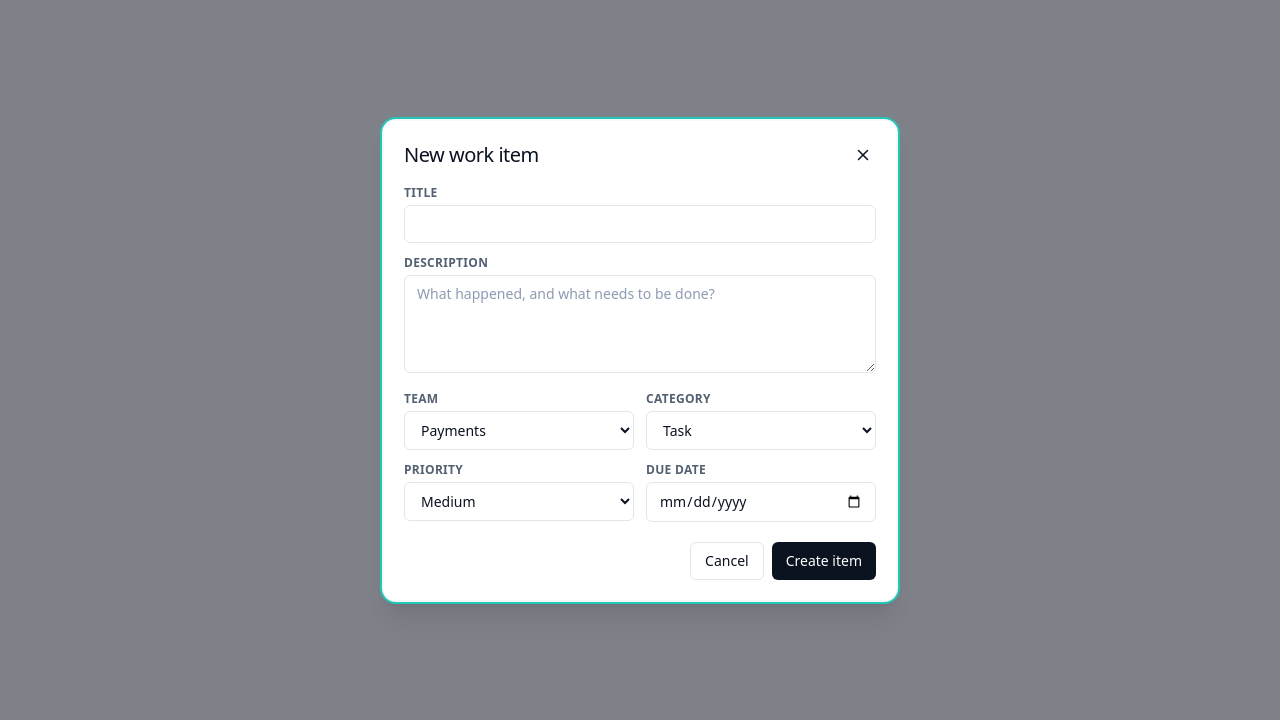
Test: server validation errors are shown next to the field
The width and height of the screenshot is (1280, 720).
Click the button "Create item" at (824, 560), box [772,542,876,580]
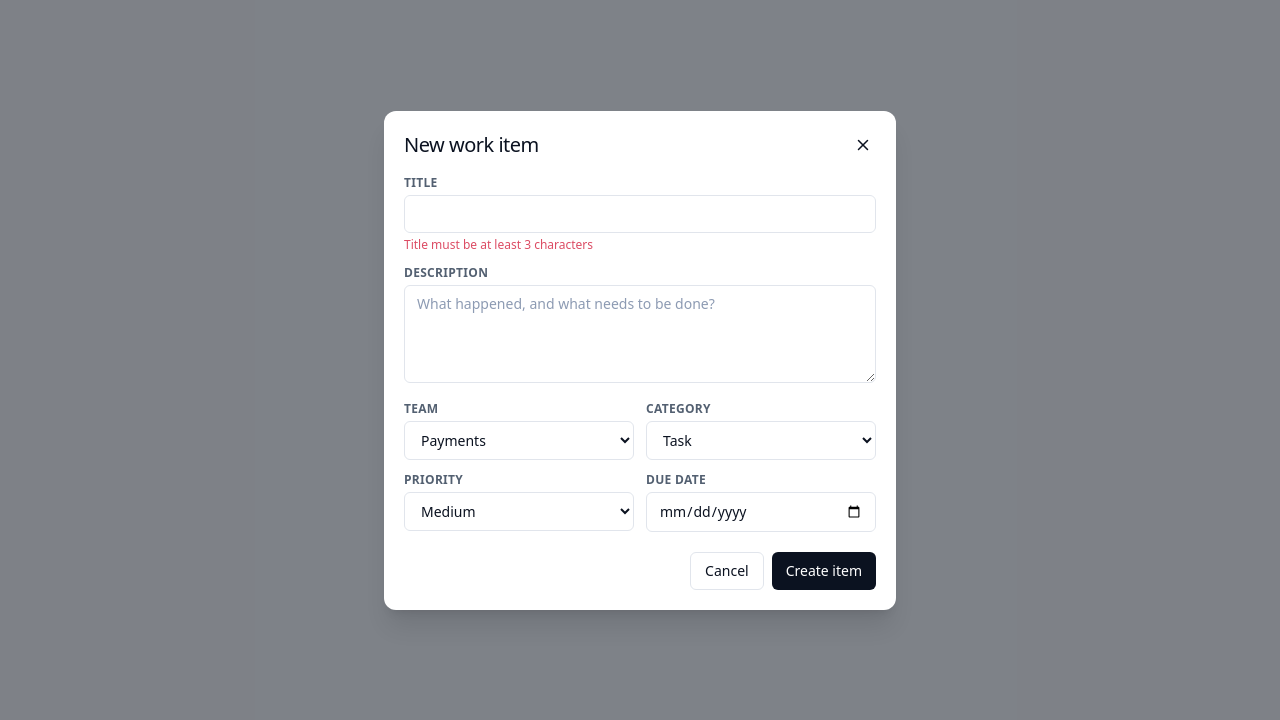
Expected: the text "Title must be at least 3 characters" is shown, [404,236,593,252]
